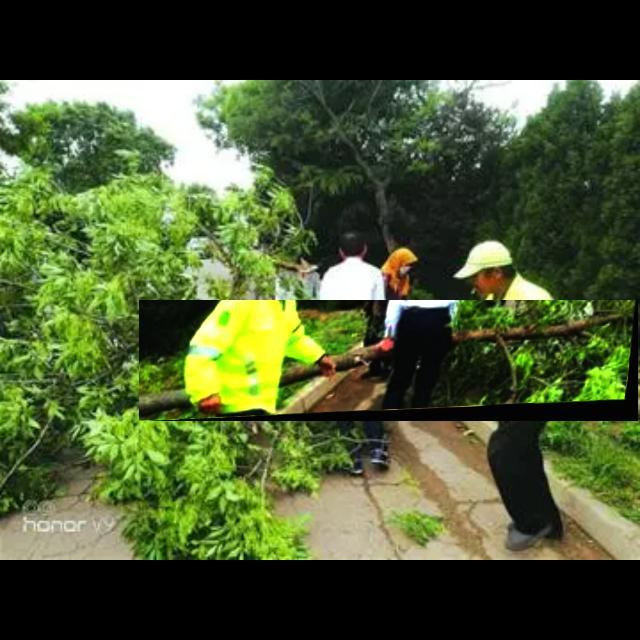fallen_tree: (139, 300, 639, 422)
